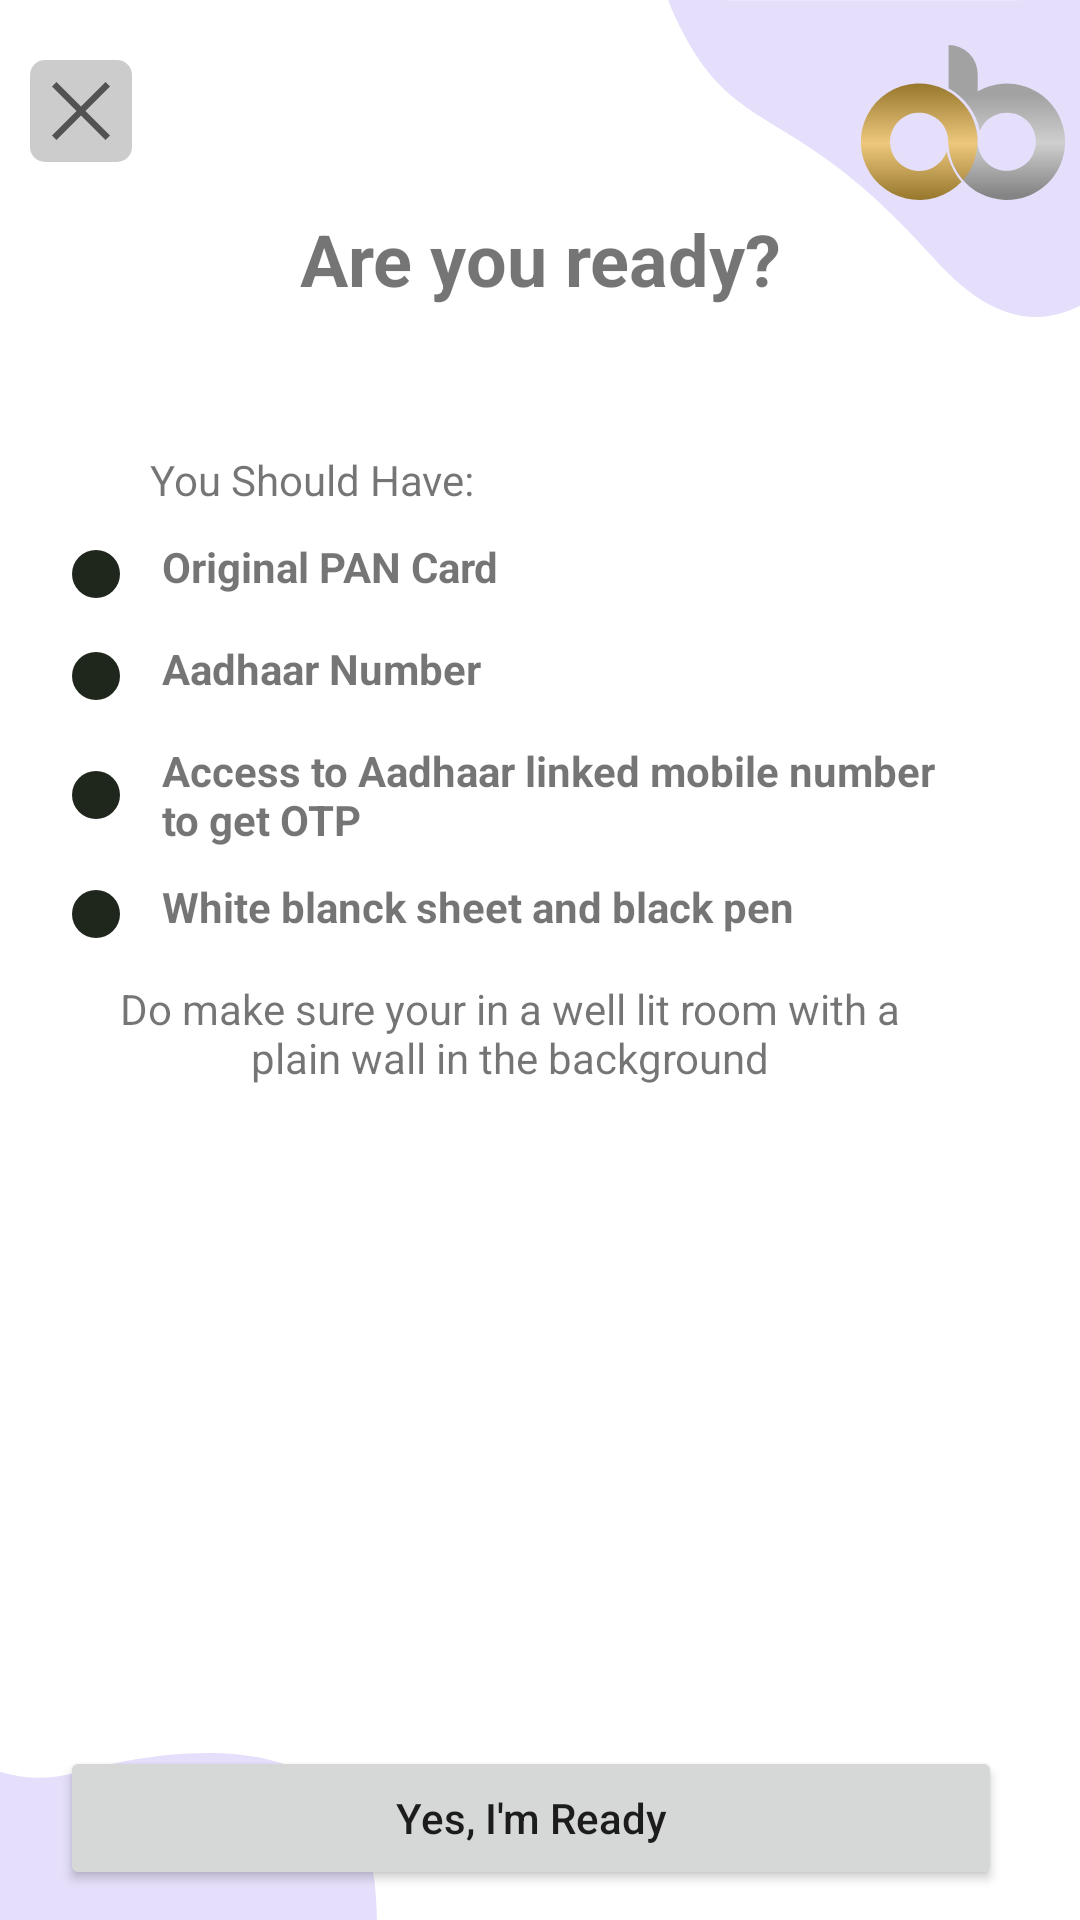

Locate icon controls on the screen. Image size 1080px x 1920px, boxes as (x1, y1, x2, y2).
close open: (30, 60, 132, 162)
